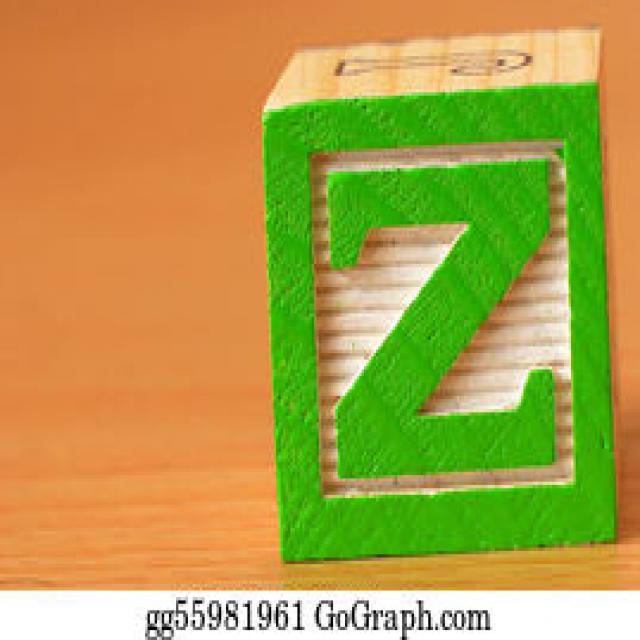Z: (317, 162, 569, 482)
